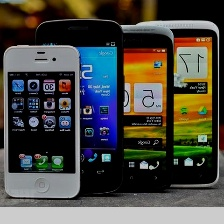phone: (33, 15, 126, 198), (128, 16, 221, 190), (89, 21, 177, 195), (1, 41, 83, 201)
